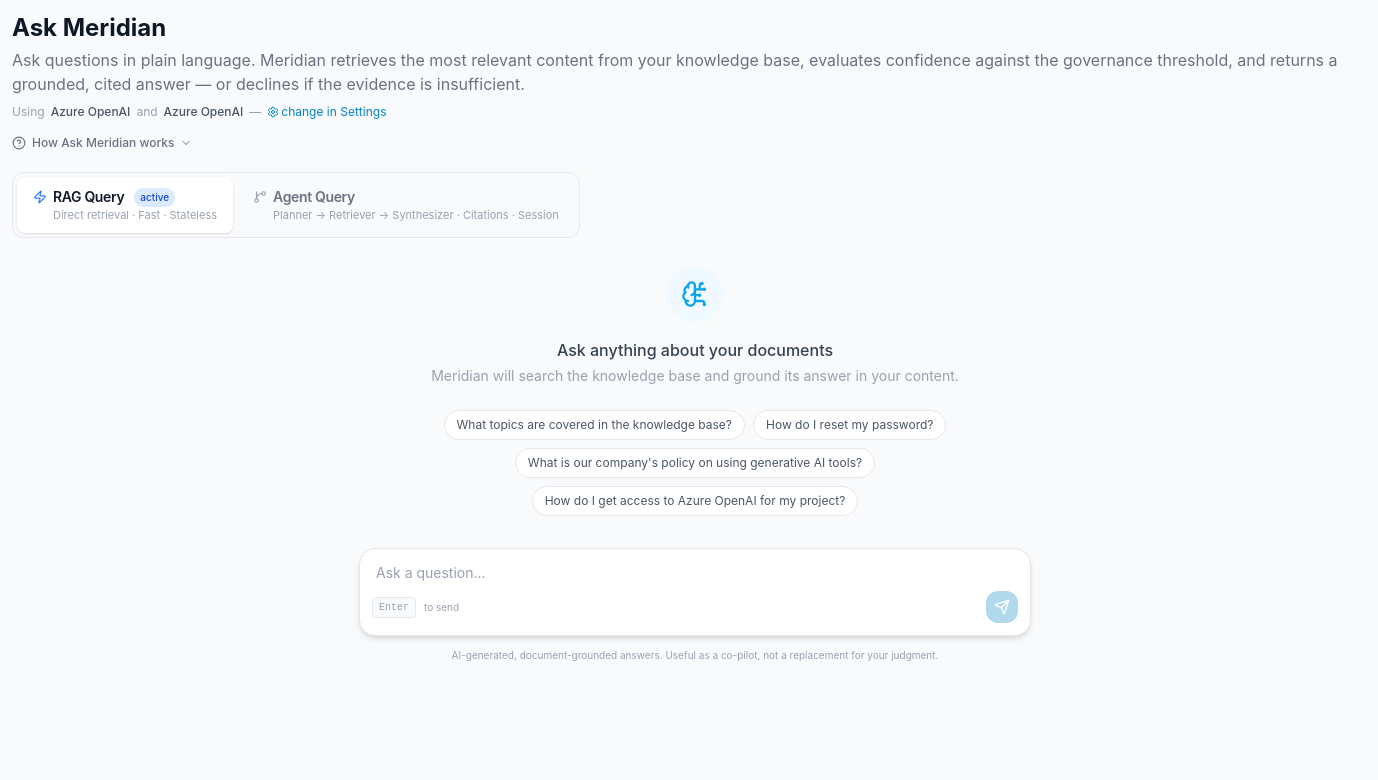
Scenario: Query page — empty state › populates input when an example question chip is clicked
The width and height of the screenshot is (1378, 780).
Click the button "How do I reset my password?".
click(850, 425)  # box [753,410,946,440]
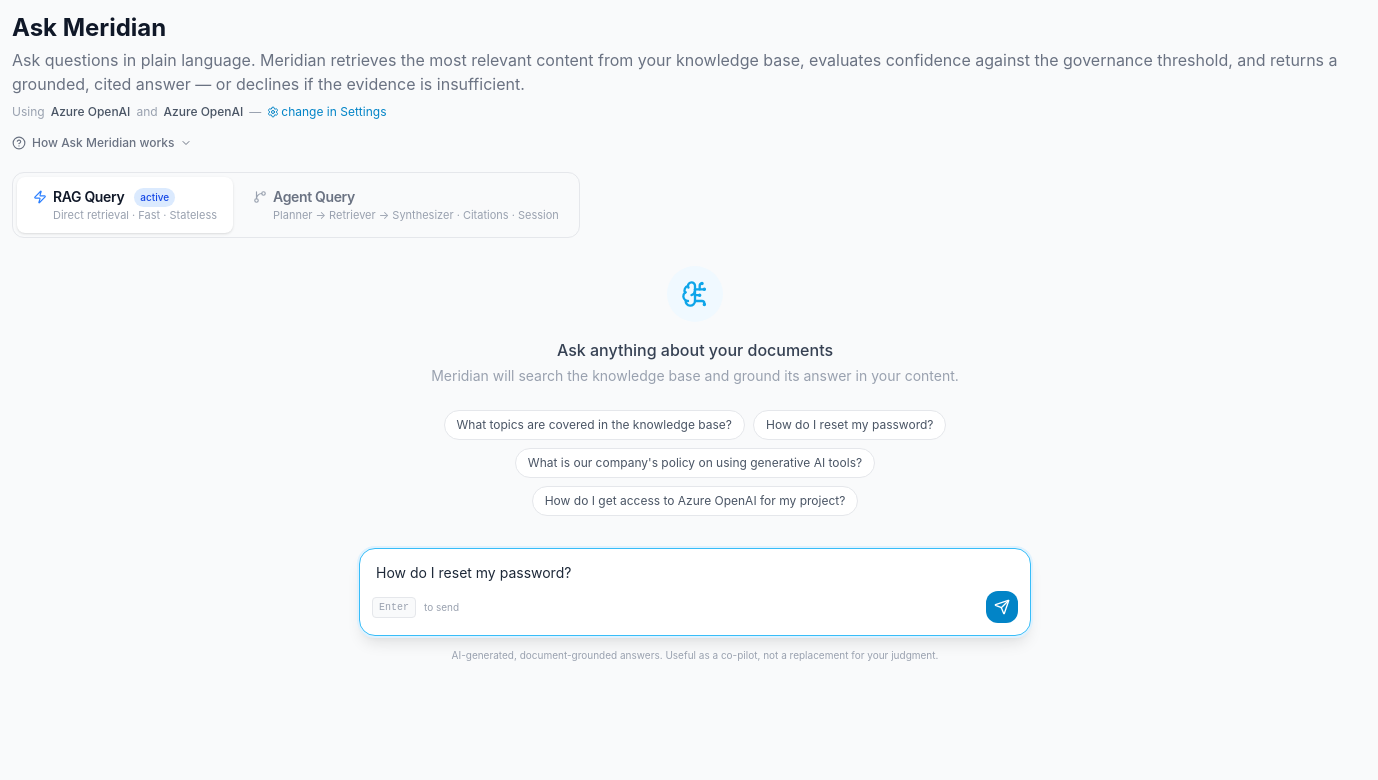
Result: the text box holds "How do I reset my password?" at [360,549,1030,591]
